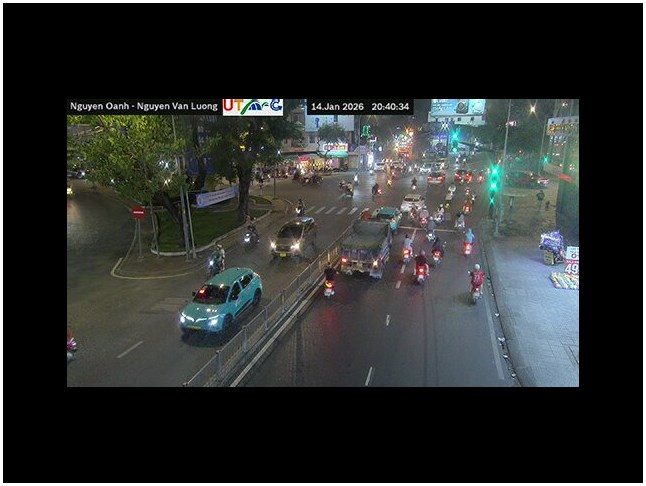car: (177, 266, 263, 336), (337, 219, 392, 278), (270, 217, 318, 259), (539, 230, 567, 265), (549, 259, 578, 290), (373, 206, 401, 229)
